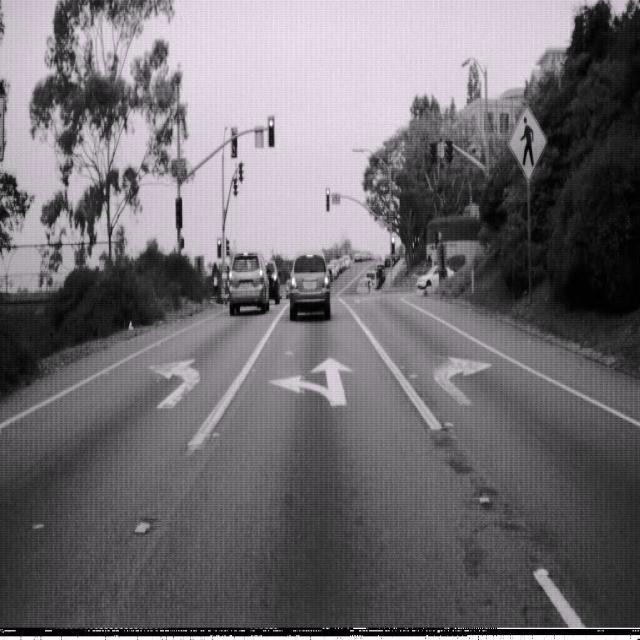pedestrianCrossing: (508, 102, 548, 181)
